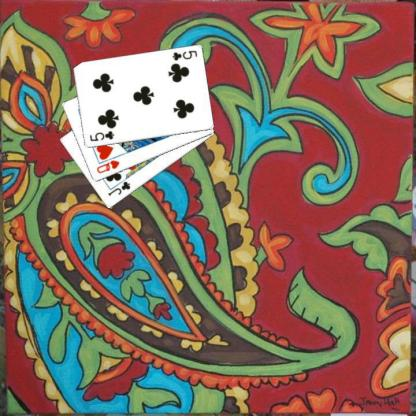5C: (87, 128, 115, 143), (169, 48, 198, 62)
JC: (105, 179, 132, 198)
QH: (94, 158, 121, 175)
